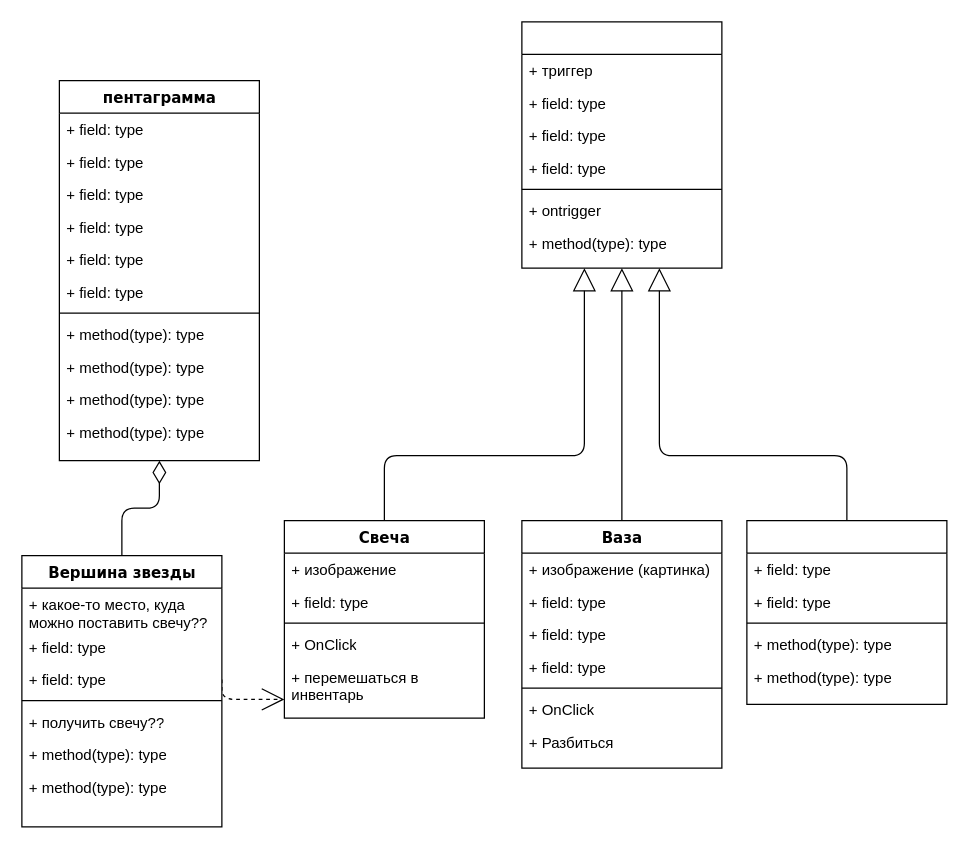
This 969x849 diagram has some shape labels left out. Each missing label, with the box of its shape:
Classname: (746, 519, 947, 704)
улика: (521, 21, 722, 268)
